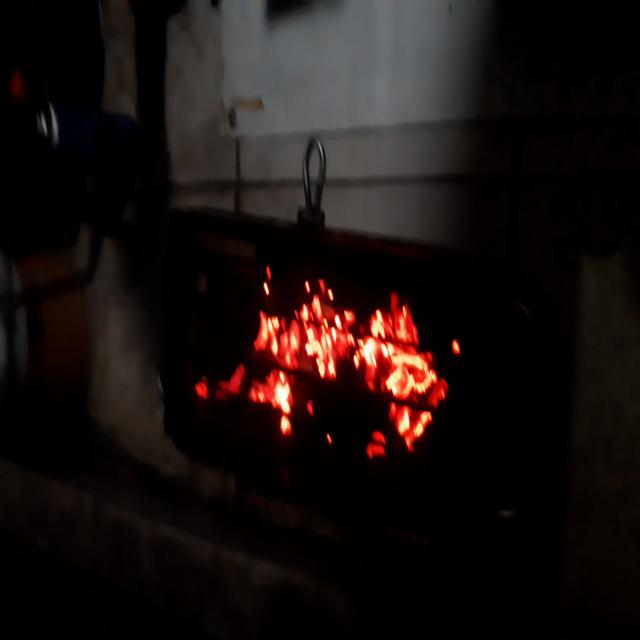Fire: (176, 244, 466, 492)
